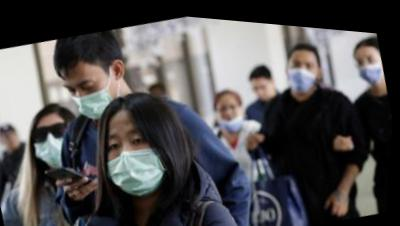NONE: (252, 71, 279, 99)
OK: (95, 109, 180, 203), (62, 62, 124, 127), (29, 112, 85, 175), (286, 47, 326, 91), (354, 42, 389, 83)
WRONG: (216, 94, 250, 129)
